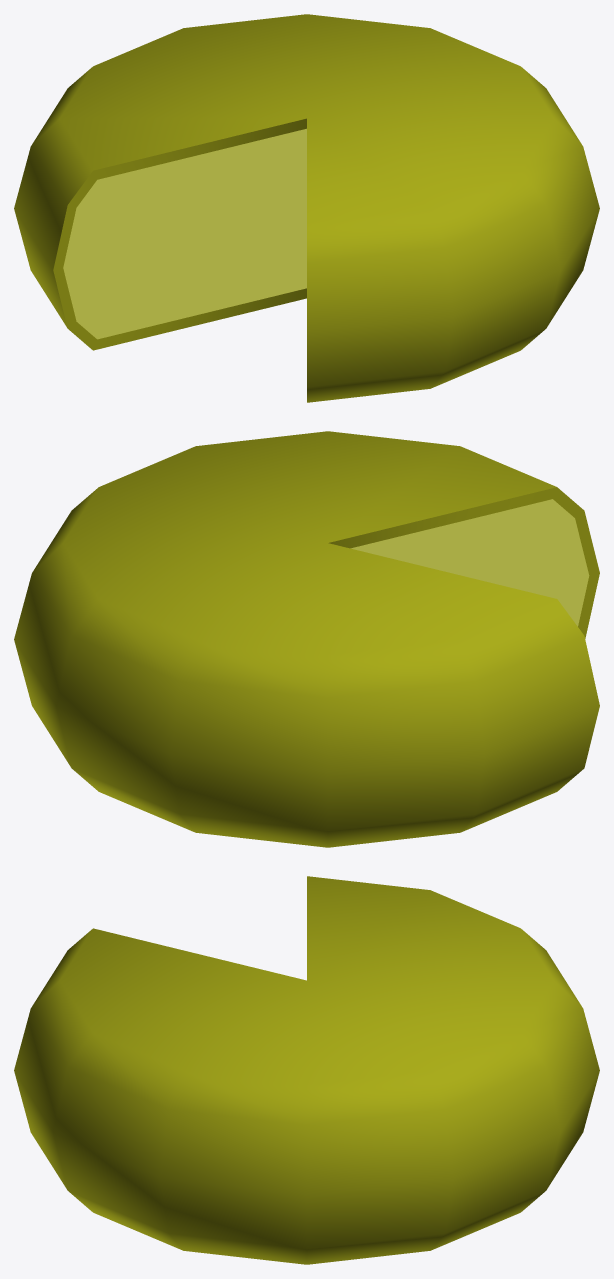
File: Rubbish4.fbx
3 views of the same model, one above another, from view 1: azimuth 30°, elevation 25°; view 2: azimuth 150°, elevation 25°; view 3: azimuth 270°, elevation 25° (orthographic). The views are drawn at different scales.
Visible parts, largest first — view 1: CheeseWheel; view 2: CheeseWheel; view 3: CheeseWheel.
Boxes of the visible parts, left/top/right/bottom form: CheeseWheel: left=14, top=14, right=599, bottom=402; CheeseWheel: left=14, top=431, right=599, bottom=847; CheeseWheel: left=14, top=876, right=599, bottom=1264.
Bounding box in the file's own units: 93.87 × 31.8 × 93.87.
